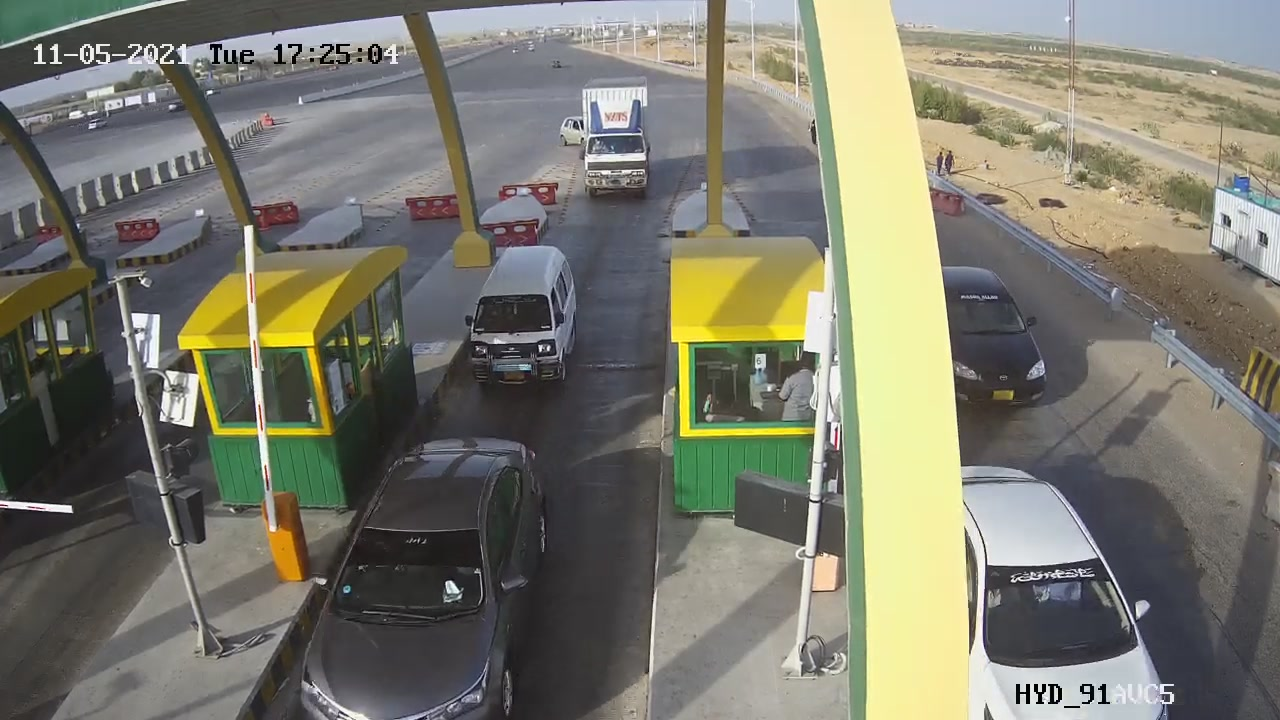F1: (447, 230, 599, 408)
